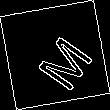M_NW: (21, 21, 89, 89)
